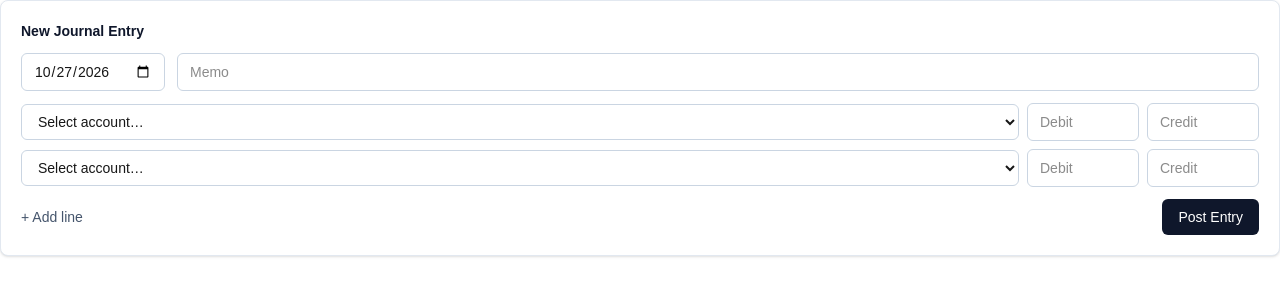
Scenario: JournalEntryForm › shows an error when debits don't equal credits
This screenshot has width=1280, height=306.
Select "1000 — Cash" in the 1st dropdown: {"x": 520, "y": 122} [21,104,1019,140]
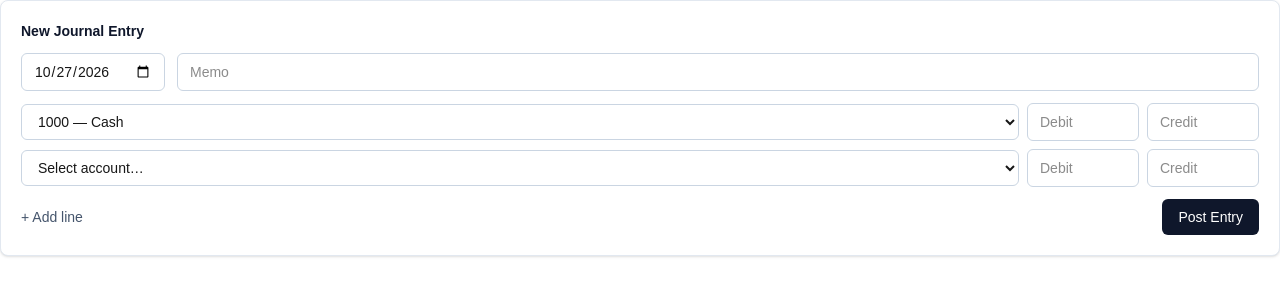
Select "4000 — Revenue" in the 2nd dropdown: {"x": 520, "y": 168} [21,150,1019,186]
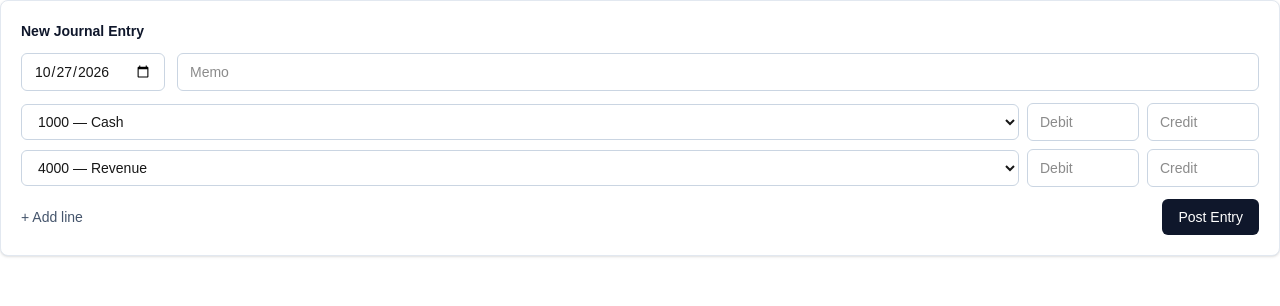
In the 1st number field with placeholder "Debit": {"x": 1083, "y": 122} [1027,103,1139,141], type "100"
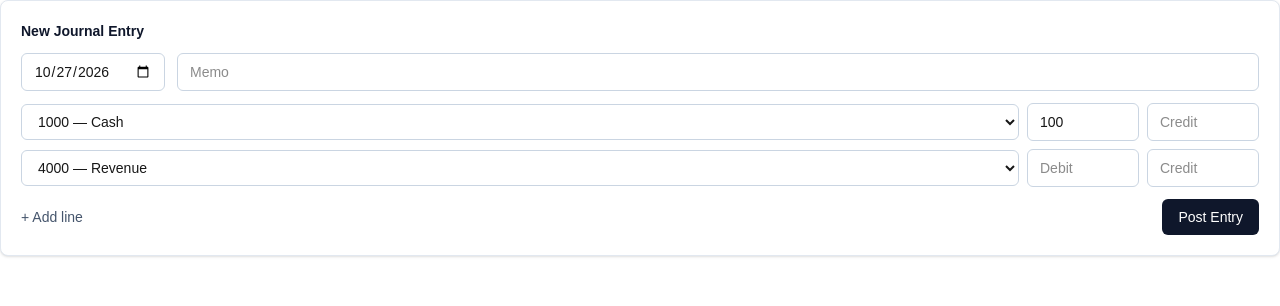
In the 2nd number field with placeholder "Credit": {"x": 1203, "y": 168} [1147,149,1259,187], type "90"
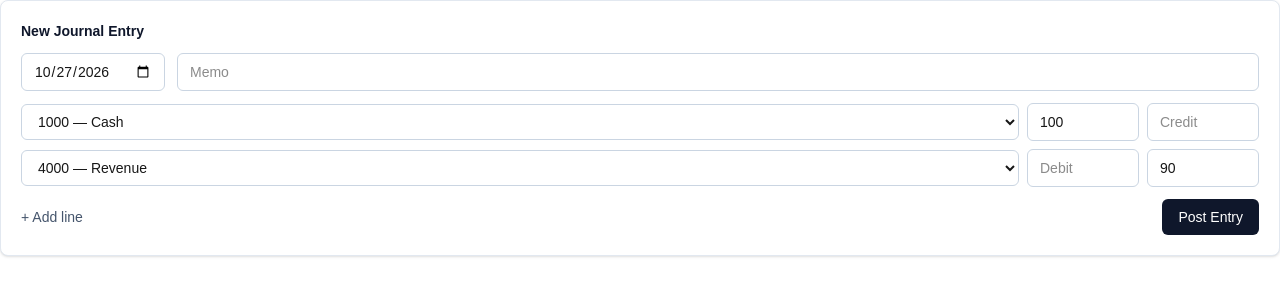
Click the button "Post Entry": {"x": 1211, "y": 217} [1162,199,1259,235]
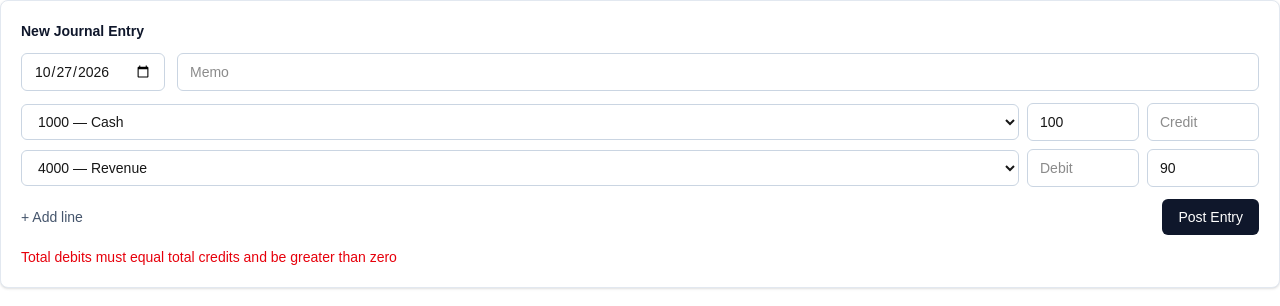
Check: the text "Total debits must equal total credits" is shown, box [21,249,397,265]
